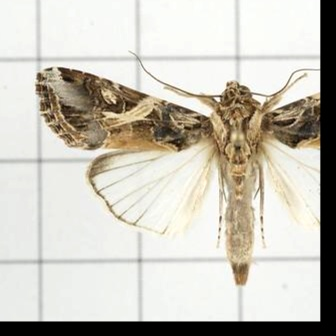Spodoptera litura: (35, 50, 320, 286)
